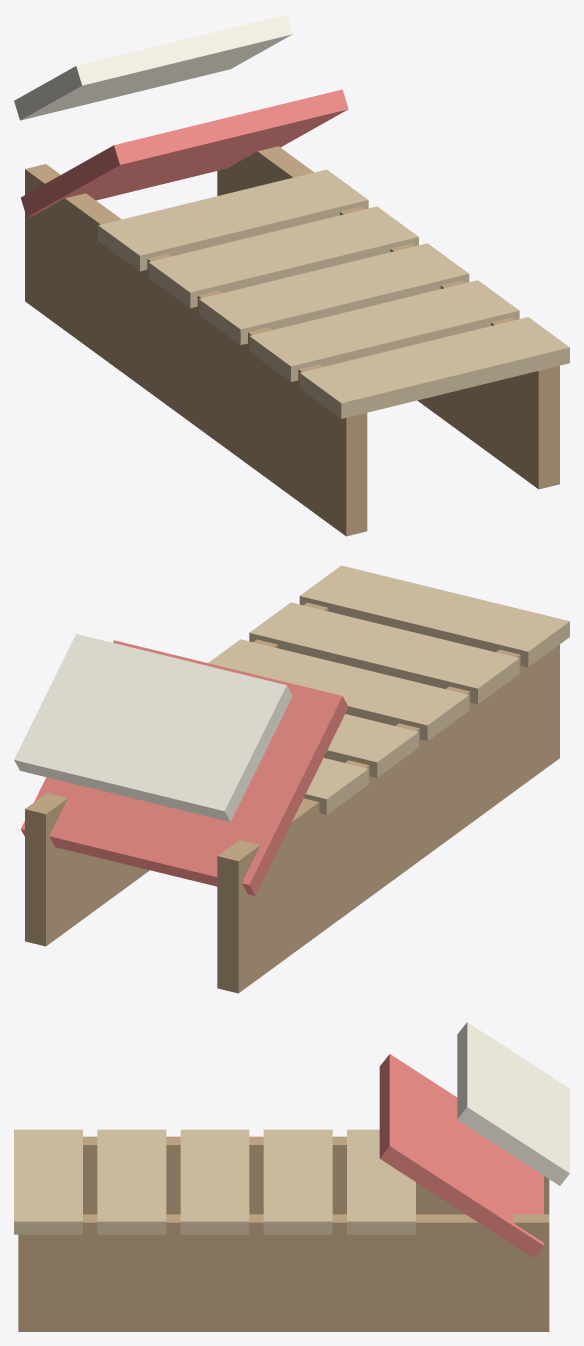
The model's file is lounger.glb.
3 views of the same model, one above another, from view 1: azimuth 30°, elevation 25°; view 2: azimuth 150°, elevation 25°; view 3: azimuth 270°, elevation 25° (orthographic). The views are drawn at different scales.
Parts seen in each view (by area): view 1: lounger; view 2: lounger; view 3: lounger.
Boxes of the visible parts, <box> form: lounger: <box>14,14,569,536</box>; lounger: <box>14,565,569,993</box>; lounger: <box>14,1022,569,1331</box>.
Bounding box in the file's own units: 0.76 × 0.8622 × 1.94.
